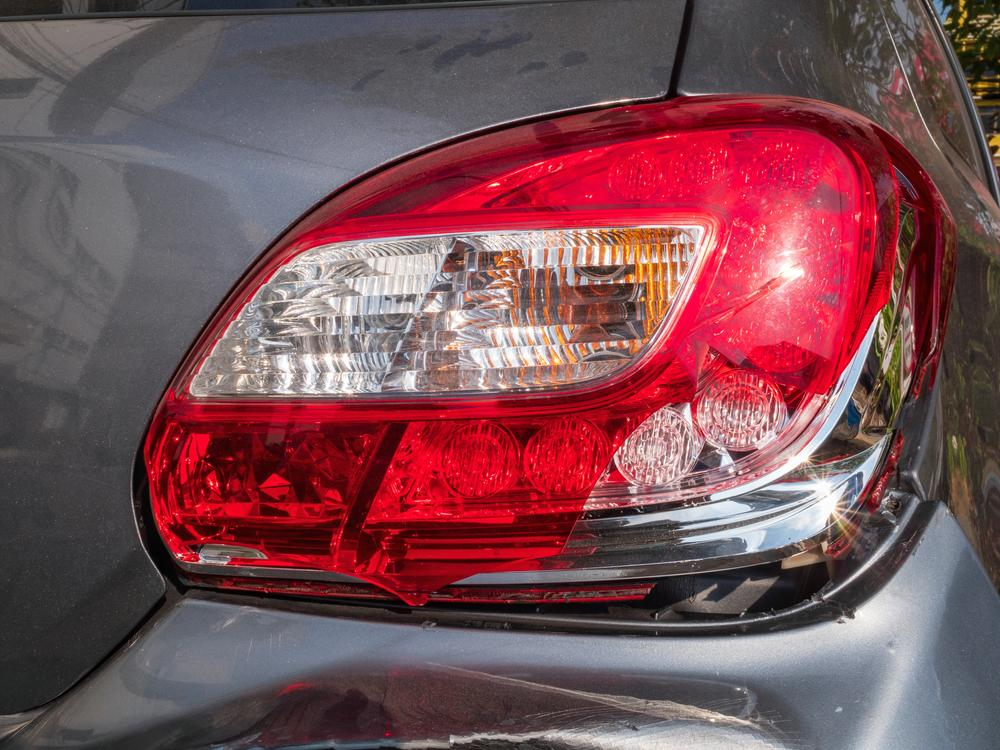dent: (99, 665, 844, 750)
lamp broken: (143, 91, 958, 603)
